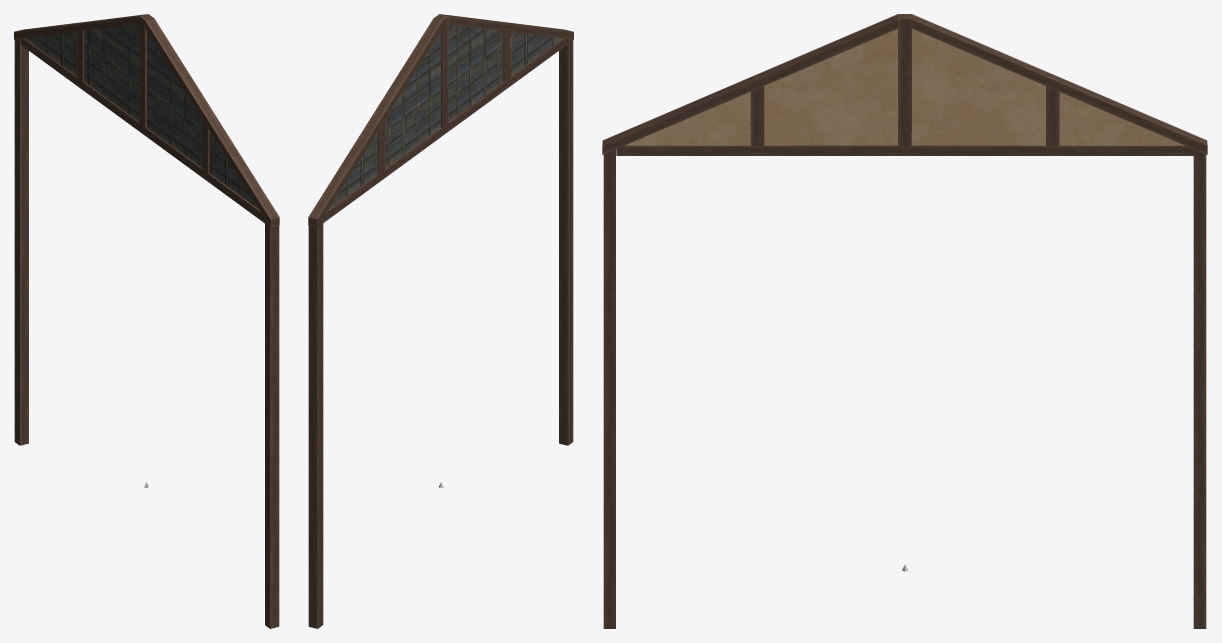
Rendered from yane_frame_4t_a12f_1.fbx.
The picture shows the model from 3 angles, left to right: view 1: azimuth 30°, elevation 25°; view 2: azimuth 150°, elevation 25°; view 3: azimuth 270°, elevation 25°; orthographic projection. The views are drawn at different scales.
Parts seen in each view (by area): view 1: yane_frame_4t_a12f_1; view 2: yane_frame_4t_a12f_1; view 3: yane_frame_4t_a12f_1.
Boxes of the visible parts, bbox=[...] form: yane_frame_4t_a12f_1: bbox=[14, 14, 279, 628]; yane_frame_4t_a12f_1: bbox=[308, 14, 573, 628]; yane_frame_4t_a12f_1: bbox=[602, 14, 1207, 628].
Size of the model in its own units: 18.5 by 1003 by 902.
